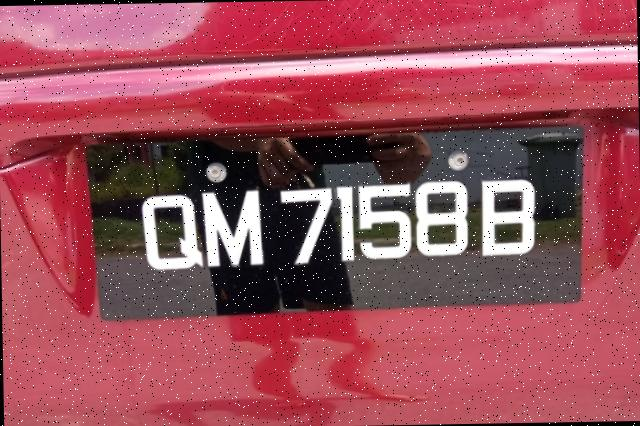License_Plate: (87, 126, 590, 321)
